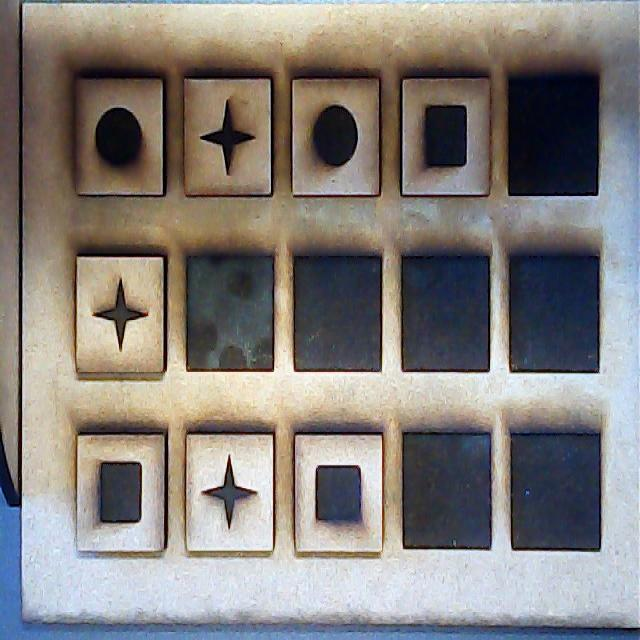circle: (291, 79, 382, 199), (78, 77, 165, 201)
square: (76, 434, 168, 556), (296, 432, 385, 553), (404, 79, 489, 193)
star: (78, 257, 167, 377), (187, 429, 277, 547), (184, 76, 270, 196)
